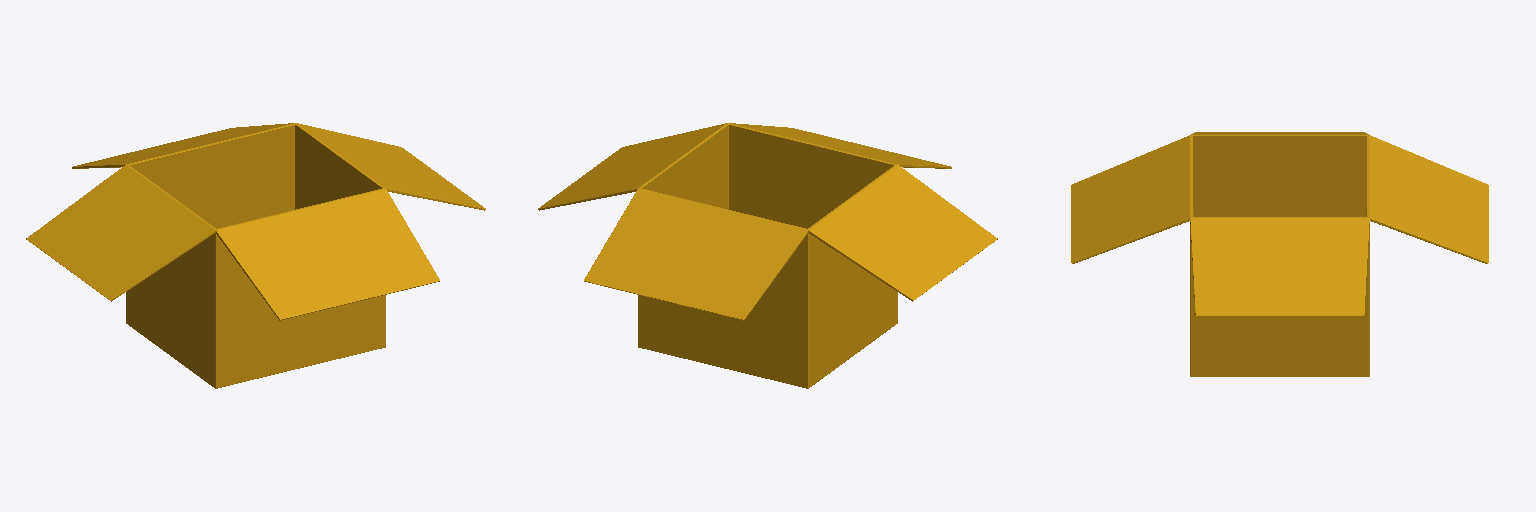
Rendered from cardboardBox.obj.
3 views of the same model, side by side, from view 1: azimuth 30°, elevation 25°; view 2: azimuth 150°, elevation 25°; view 3: azimuth 270°, elevation 25° (orthographic).
Visible parts, largest first — view 1: cardboard_box; view 2: cardboard_box; view 3: cardboard_box.
Part boxes in pixels (x1,y1,x2,y2): cardboard_box: (26,123,485,388); cardboard_box: (538,123,997,388); cardboard_box: (1071,132,1488,376).
Size of the model in its own units: 56.18 by 22.68 by 54.05.